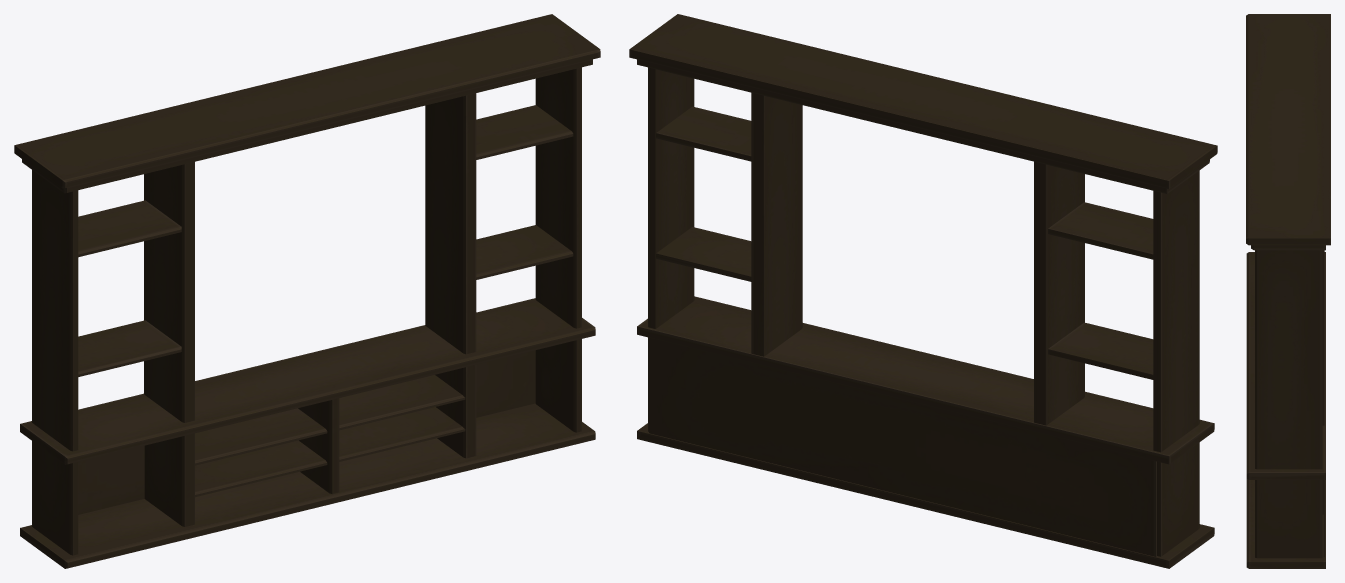
Rendered from Happy Hounds VR Shelves asset (textured).FBX.
3 renders of one model, left to right at view 1: azimuth 30°, elevation 25°; view 2: azimuth 150°, elevation 25°; view 3: azimuth 270°, elevation 25°, orthographic. The views are drawn at different scales.
Parts seen in each view (by area): view 1: Box002; view 2: Box002; view 3: Box002.
Boxes of the visible parts, x1=… form: Box002: x1=14, y1=14, x2=600, y2=568; Box002: x1=629, y1=14, x2=1217, y2=568; Box002: x1=1246, y1=14, x2=1330, y2=568.
Size of the model in its own units: 11.47 by 7.93 by 1.83.
Materials: 1 (1 with a texture image).
